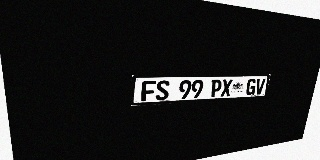plate: (131, 74, 271, 106)
